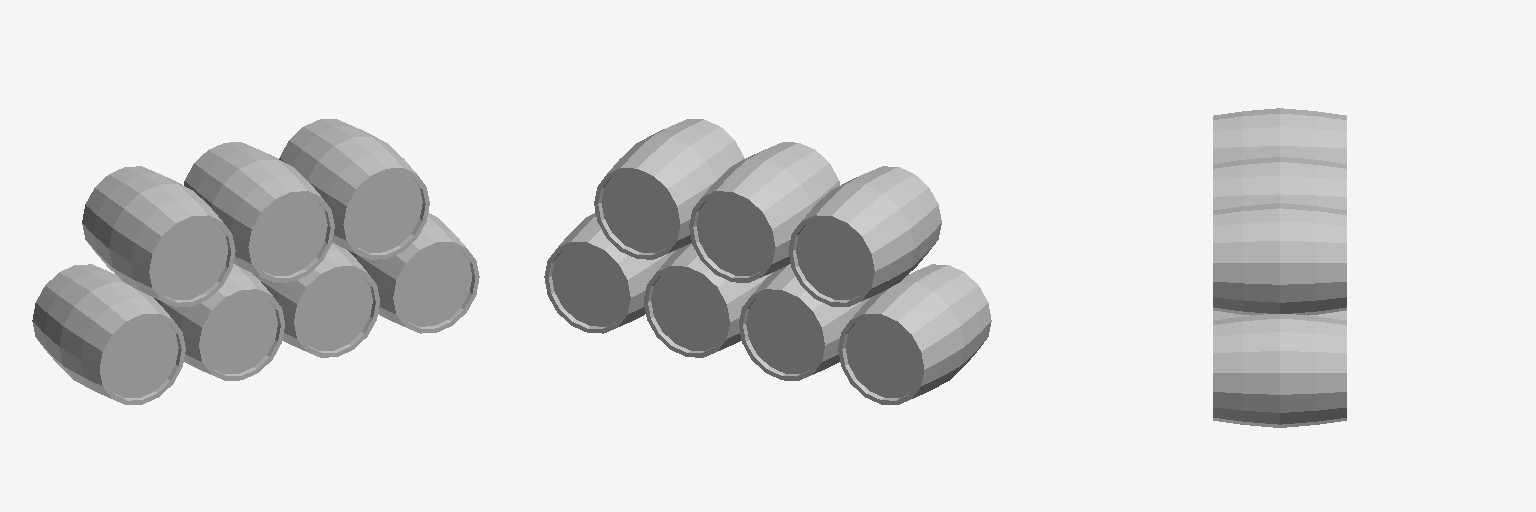
Rendered from barrel_4_013.obj.
3 views of the same model, side by side, from view 1: azimuth 30°, elevation 25°; view 2: azimuth 150°, elevation 25°; view 3: azimuth 270°, elevation 25° (orthographic).
Visible parts, largest first — view 1: Circle.003; view 2: Circle.003; view 3: Circle.003.
Part boxes in pixels (x1,y1,x2,y2): Circle.003: (32, 119, 479, 404); Circle.003: (544, 119, 991, 404); Circle.003: (1213, 108, 1346, 427).
Size of the model in its own units: 9.11 by 4.21 by 2.69.